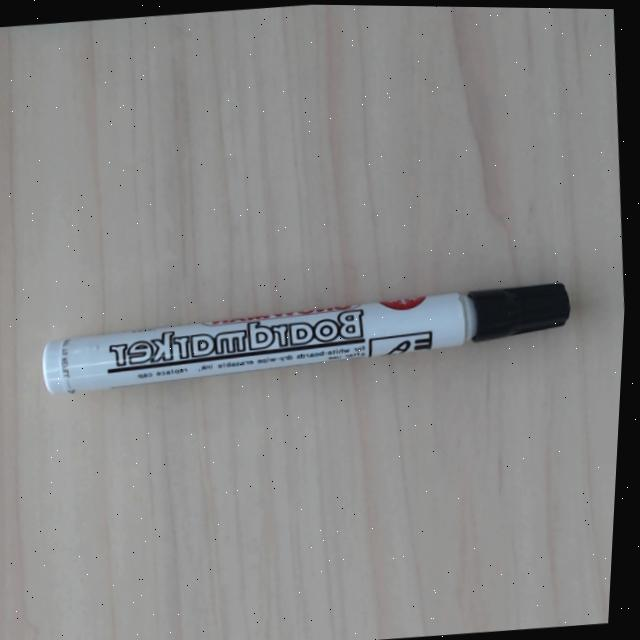Marker-Pen: (39, 279, 571, 396)
